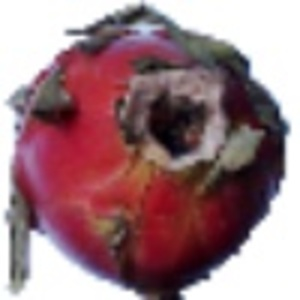pitaia: (3, 1, 293, 300)
